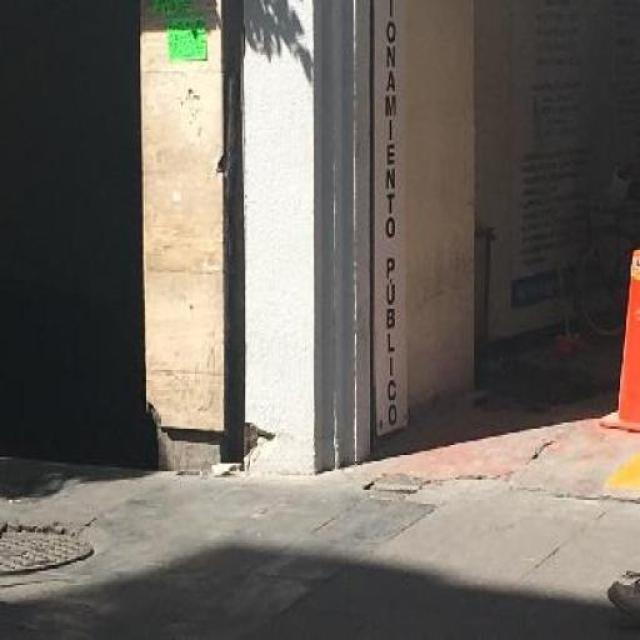D10: (246, 421, 274, 454)
